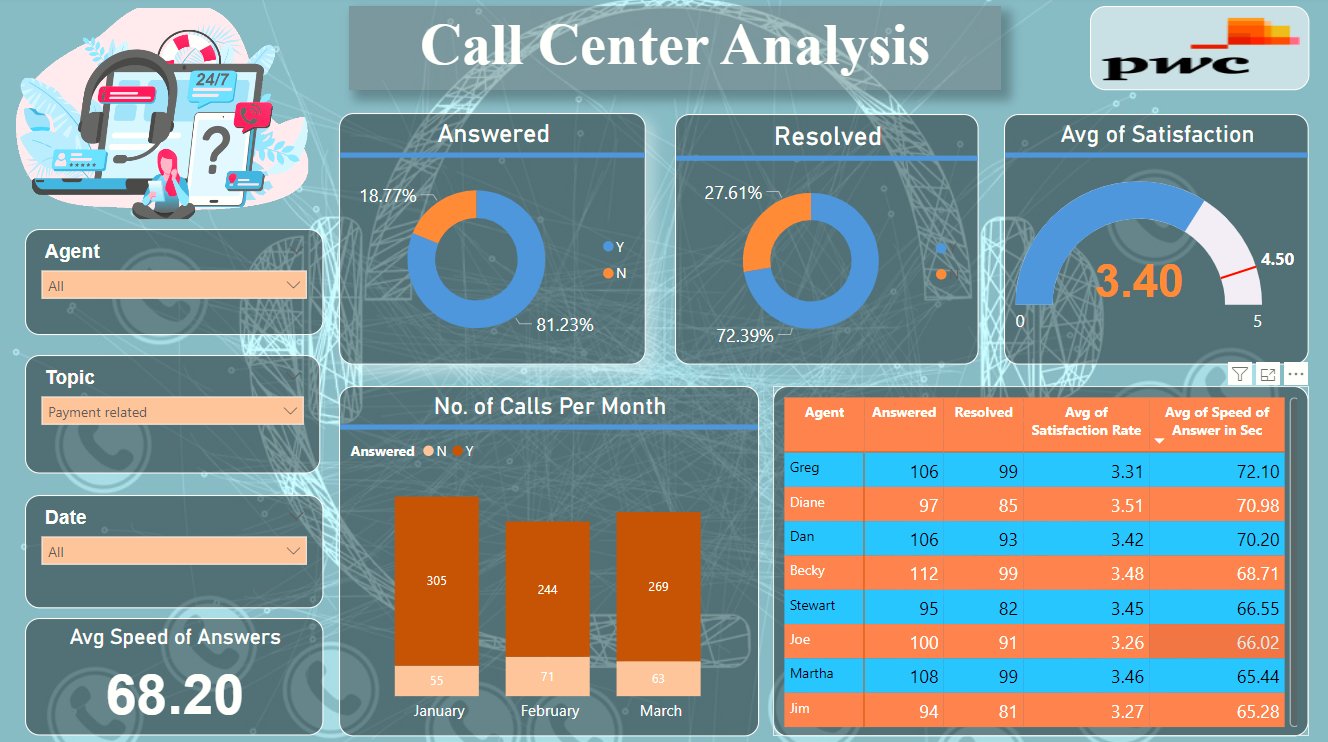

The page's visual inventory and layout, read from the dashboard file:
{"tool":"powerbi","page":{"name":"Page 1","canvas":[1280,720],"ordinal":0},"visuals":[{"type":"donutChart","title":"Answered","fields":{"Category":["Call Center.Answered (Y/N)"],"Y":["Call Center.Answered (Y/N)"]},"box":[327,111.6,295.2,242.3],"z":0},{"type":"donutChart","title":"Resolved","fields":{"Category":["Call Center.Resolved"],"Y":["Call Center.Resolved"]},"box":[650.1,112.5,292.4,241.4],"z":1000},{"type":"gauge","title":"Avg of Satisfaction","fields":{"TargetValue":["Call Center.Target Value Satisfaction"],"Y":["Call Center.Satisfaction rating"],"MaxValue":["Sum(Call Center.Satisfaction rating)1"]},"box":[966.5,112.5,293.3,241.4],"z":2000},{"type":"columnChart","title":"No. of Calls Per Month","fields":{"Category":["Call Center.Date.Variation.Date Hierarchy.Month"],"Y":["Call Center.Call Id"],"Series":["Call Center.Answered (Y/N)"]},"box":[327,374.1,403.9,336.6],"z":3000},{"type":"pivotTable","fields":{"Rows":["Call Center.Agent"],"Values":["Call Center.# of answered","Call Center.# of resolved","Call Center.Satisfaction rating","Call Center.Speed of answer in seconds"]},"box":[744.3,374.1,515.5,336.6],"z":4000},{"type":"textbox","box":[336.6,8.7,627,80.8],"z":5000},{"type":"slicer","fields":{"Values":["Call Center.Agent"]},"box":[25,223.1,286.6,101.9],"z":6000},{"type":"slicer","fields":{"Values":["Call Center.Topic"]},"box":[25,344.3,283.7,114.4],"z":7000},{"type":"slicer","fields":{"Values":["Call Center.Date"]},"box":[25,478.9,286.6,108.7],"z":8000},{"type":"card","title":"Avg Speed of Answers","fields":{"Values":["Call Center.Speed of answer in seconds"]},"box":[25,597.2,286.6,113.5],"z":9000},{"type":"image","box":[1049.2,8.7,210.6,80.8],"z":10000},{"type":"image","box":[0,10.6,311.6,223.1],"z":12000}]}

Visuals, with their boxes in screenshot pixels (x1, y1, x2, y2), scaled from the page's 1280x720 canvas onto the 1328x742 screenshot:
"Answered" donutChart: crop(339, 115, 646, 365)
"Resolved" donutChart: crop(674, 116, 978, 365)
"Avg of Satisfaction" gauge: crop(1003, 116, 1307, 365)
"No. of Calls Per Month" columnChart: crop(339, 386, 758, 732)
pivotTable - Call Center.Agent x Call Center.# of answered: crop(772, 386, 1307, 732)
textbox: crop(349, 9, 1000, 92)
slicer - Call Center.Agent: crop(26, 230, 323, 335)
slicer - Call Center.Topic: crop(26, 355, 320, 473)
slicer - Call Center.Date: crop(26, 494, 323, 606)
"Avg Speed of Answers" card: crop(26, 615, 323, 732)
image: crop(1089, 9, 1307, 92)
image: crop(0, 11, 323, 241)
